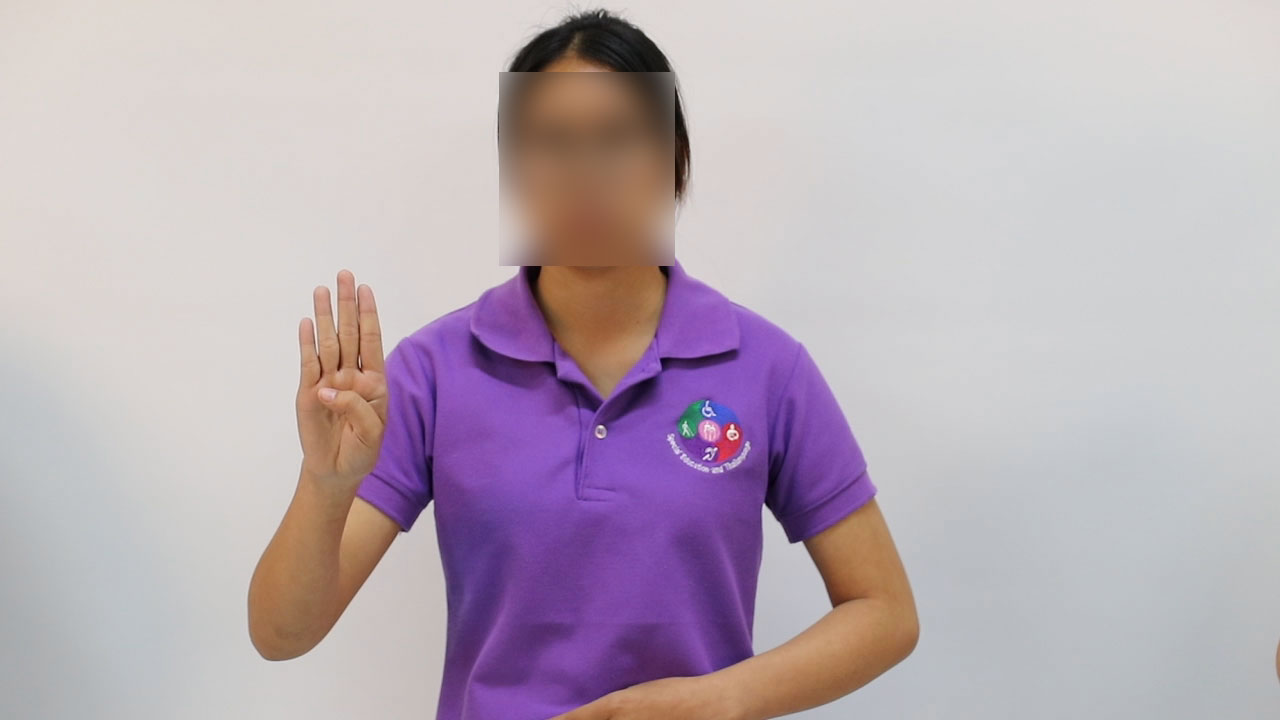bor: (276, 255, 399, 513)
